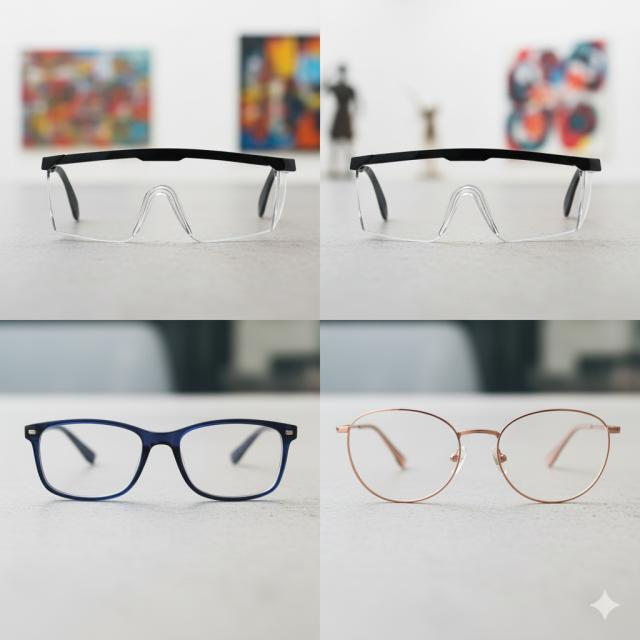oculos-epi: (14, 142, 310, 249), (324, 144, 617, 248)
sem_oculos: (337, 409, 620, 503), (25, 419, 297, 501)
